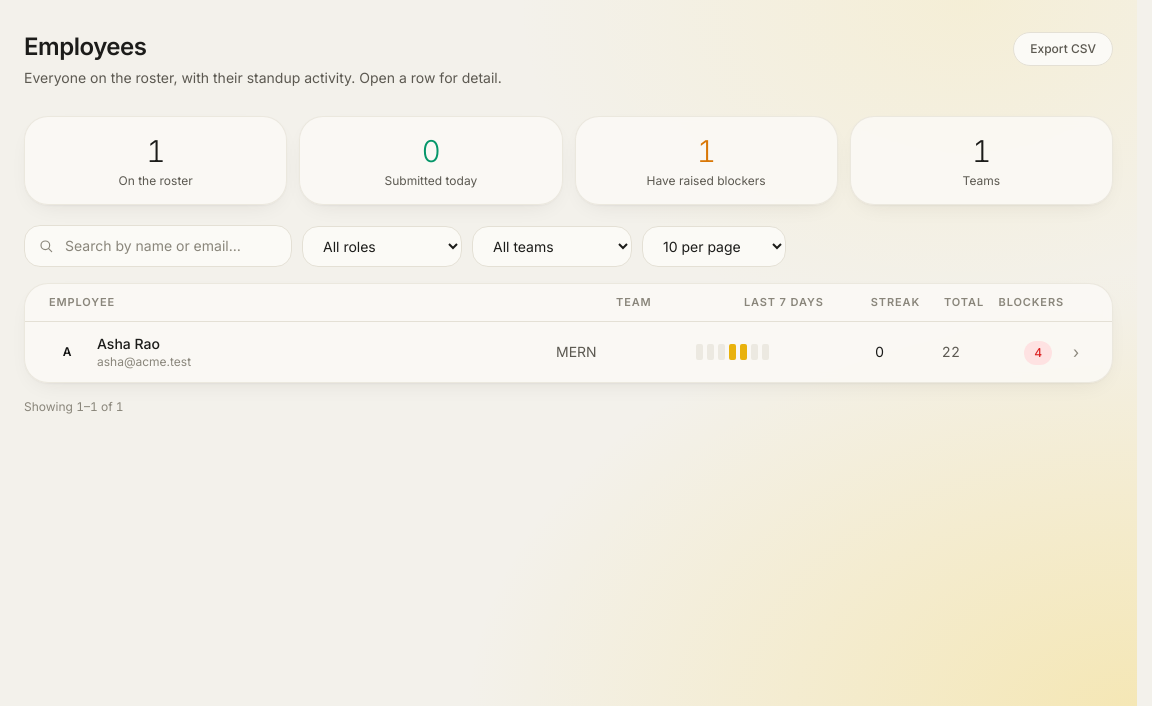
Test case: opening somebody on the roster › shows who they are and how to reach them
Click the button "A Asha Rao asha@acme.test MERN 0 22 4 ›" at (568, 352), box x1=25 y1=322 x2=1112 y2=382
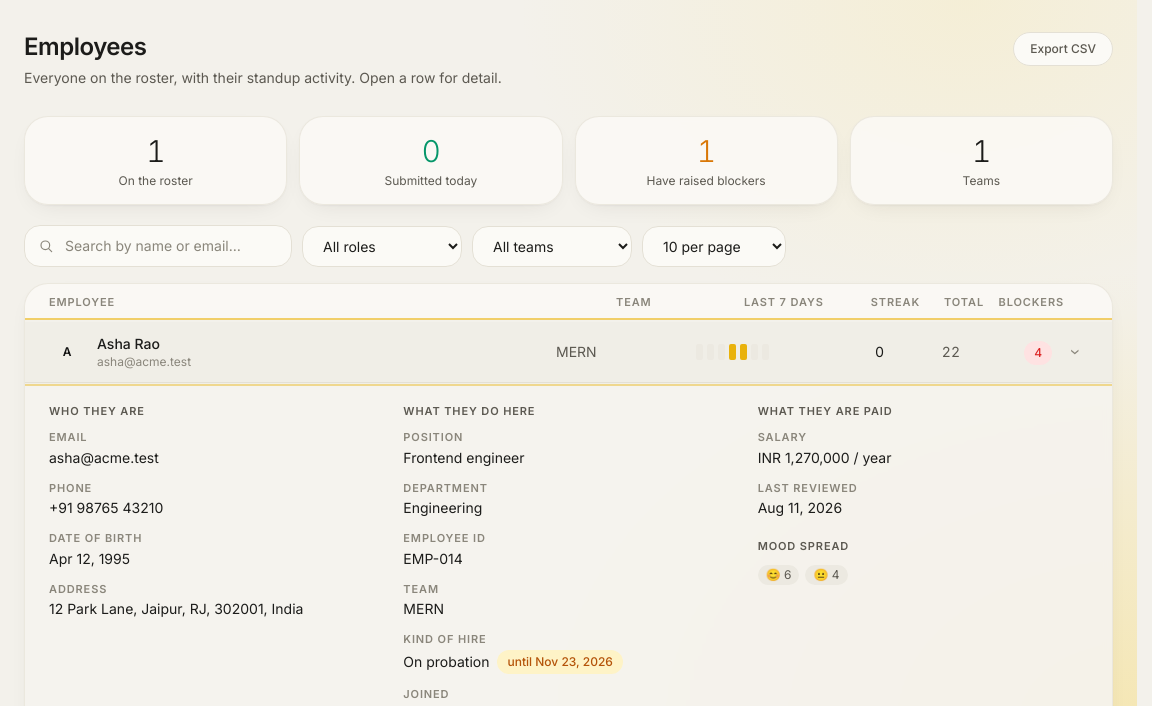
Check: the text "+91 98765 43210" is shown, box x1=49 y1=499 x2=163 y2=516
Check: the text "12 Park Lane, Jaipur, RJ, 302001, India" is shown, box x1=49 y1=600 x2=303 y2=617
